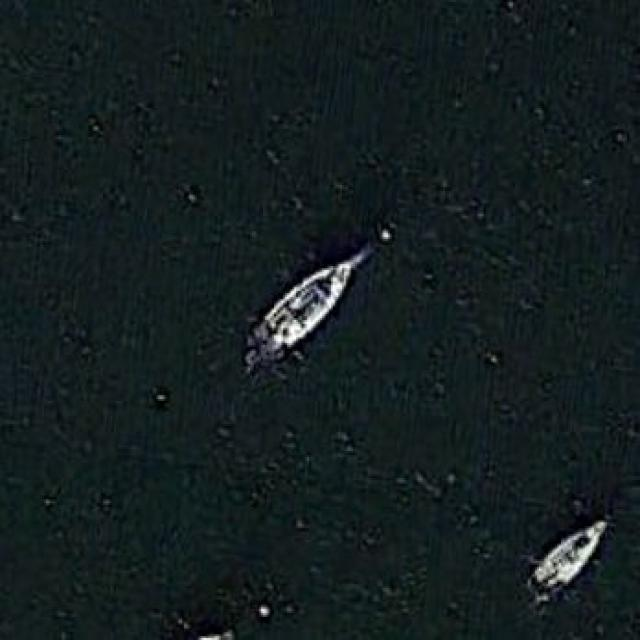ship: (263, 241, 377, 347), (522, 515, 612, 601)
